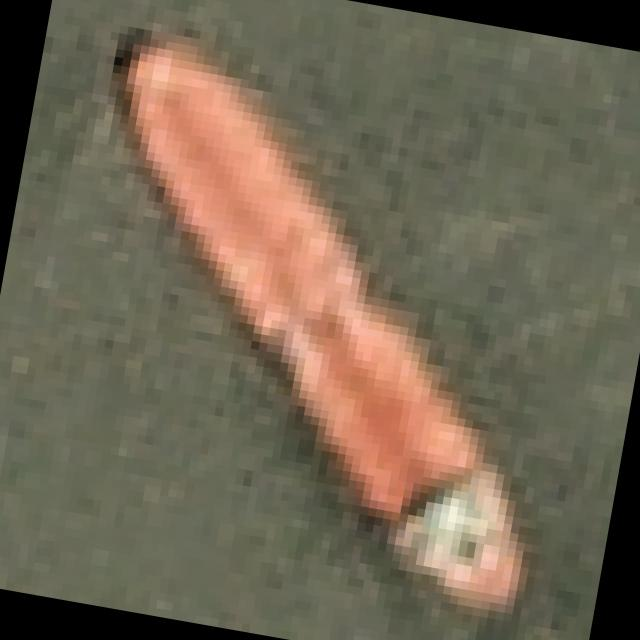ship: (32, 8, 628, 630)
